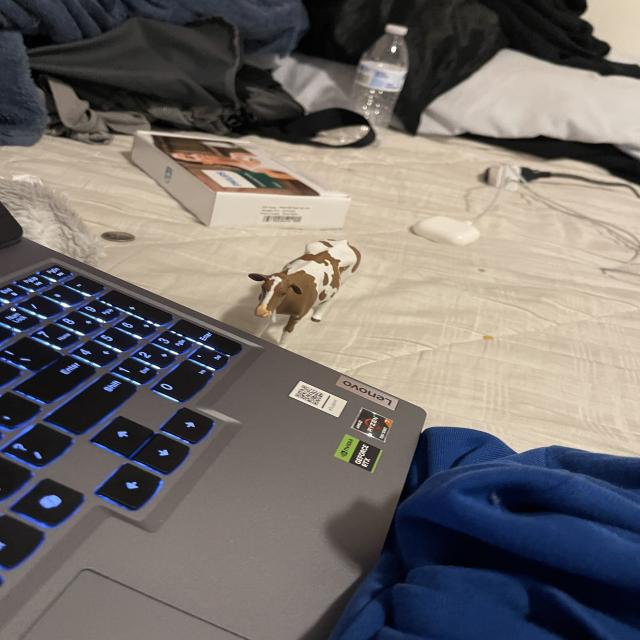cow: (237, 221, 373, 338)
